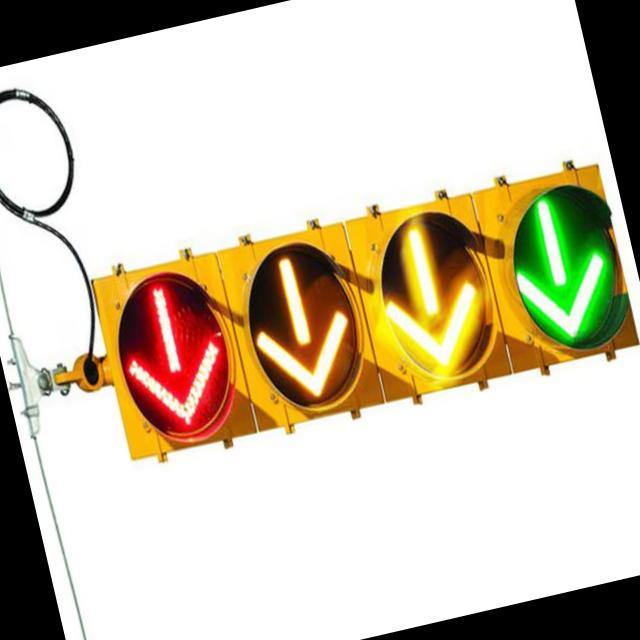green-lights: (475, 170, 633, 365)
red-lights: (72, 211, 266, 475)
yellow-lights: (224, 168, 510, 450)
